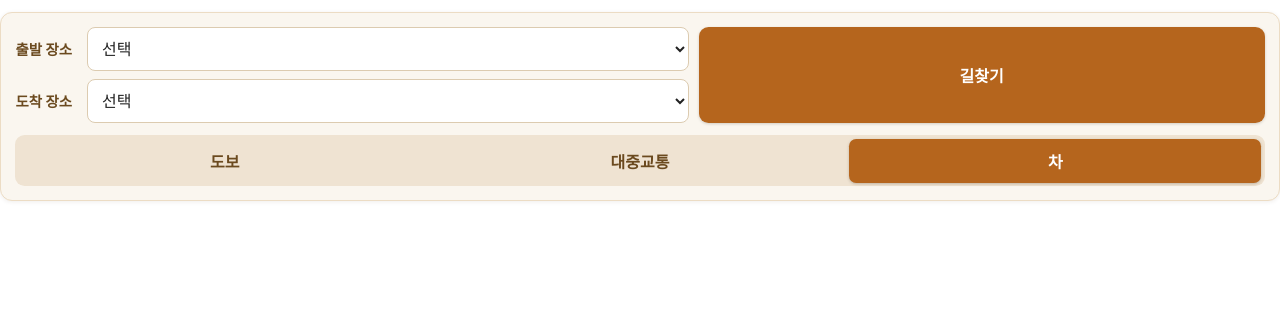
Scenario: DirectionsPanel fallback notice (A11) › notes when a car result is a straight-line estimate
Select "성수 베이커리" in the dropdown labelled "출발 장소" at {"x": 388, "y": 49}, box [87, 27, 689, 71]
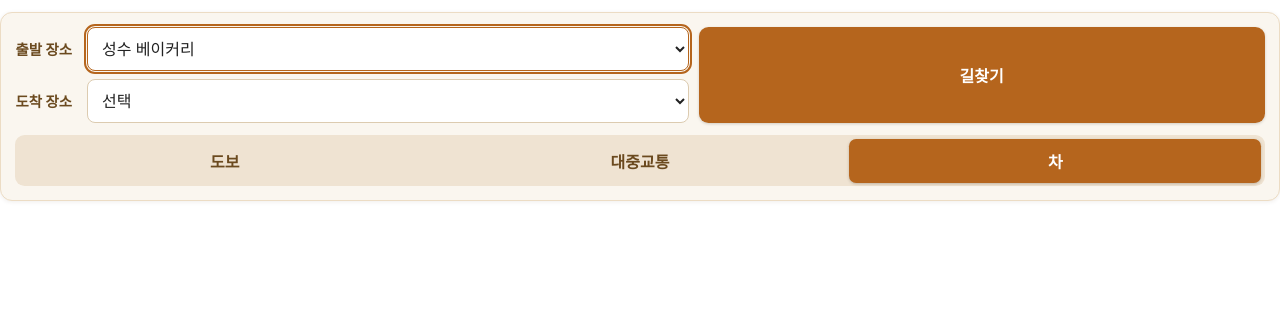
Select "연남 식당" in the dropdown labelled "도착 장소" at {"x": 388, "y": 101}, box [87, 79, 689, 123]
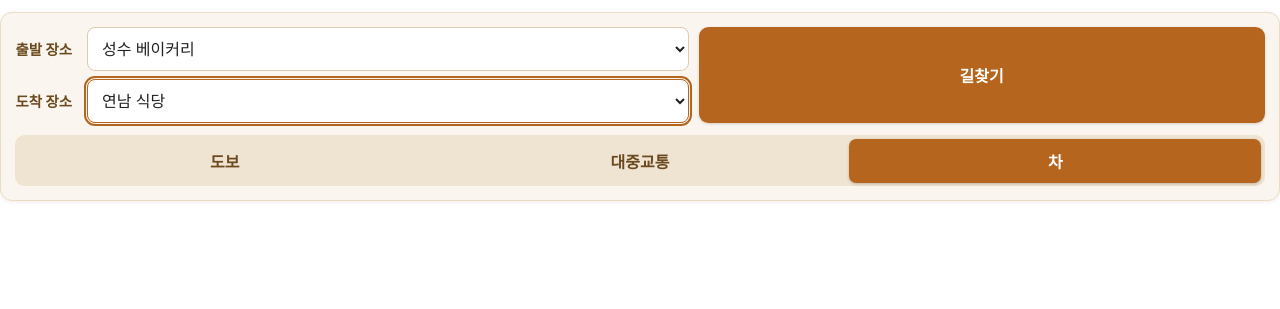
Click the button "길찾기" at {"x": 982, "y": 75}, box [698, 27, 1265, 123]
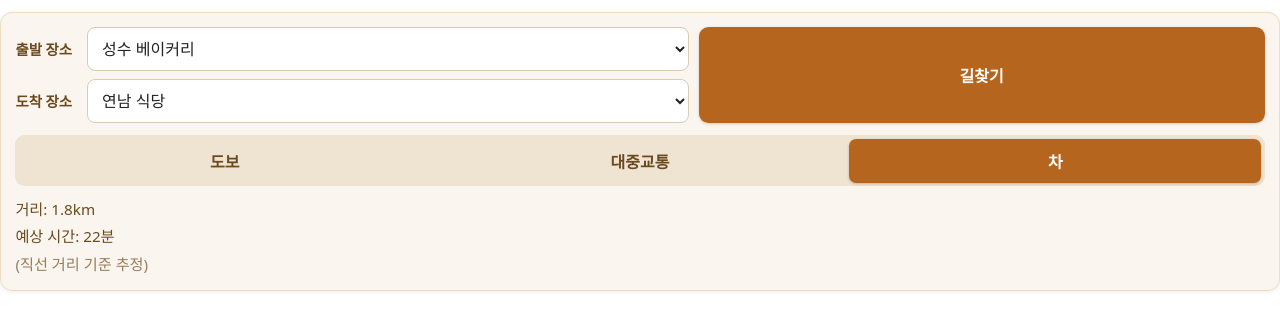
Check: the text with test id "route-fallback" shows "직선 거리 기준 추정", box [15, 254, 148, 274]
